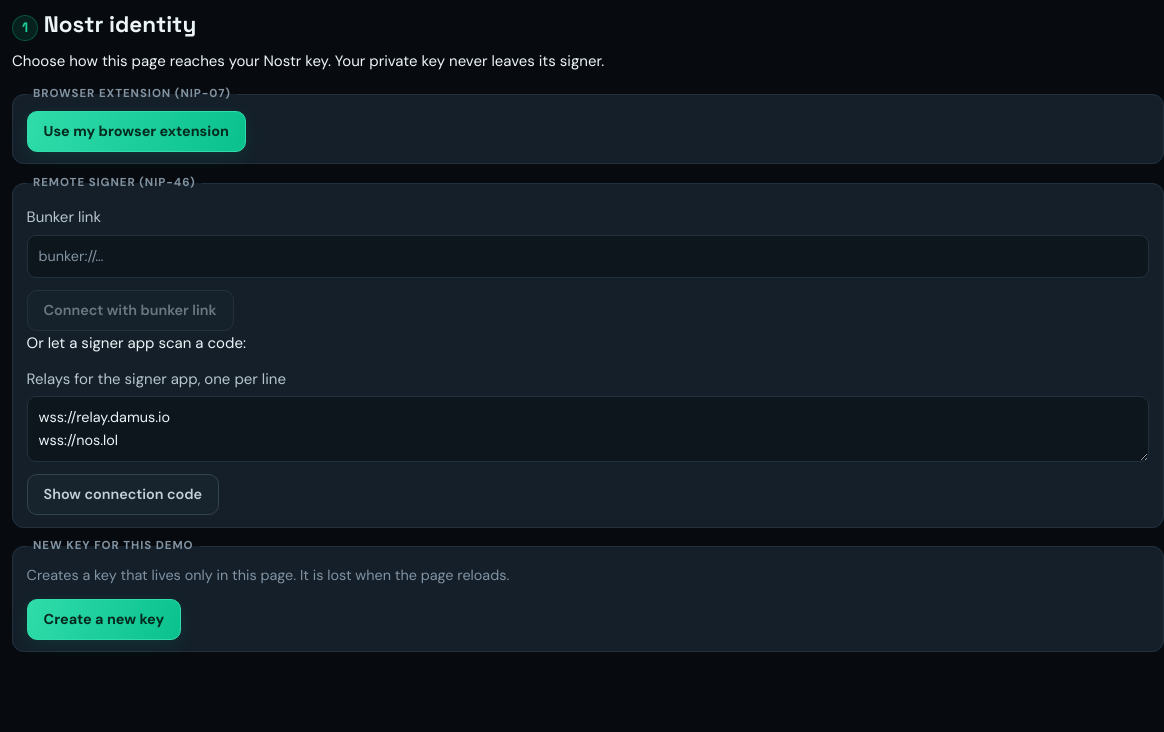
Test: NostrSignerPanel › shows an extension's refusal
Click the button "Use my browser extension".
click(136, 132)  # box [27, 111, 246, 152]
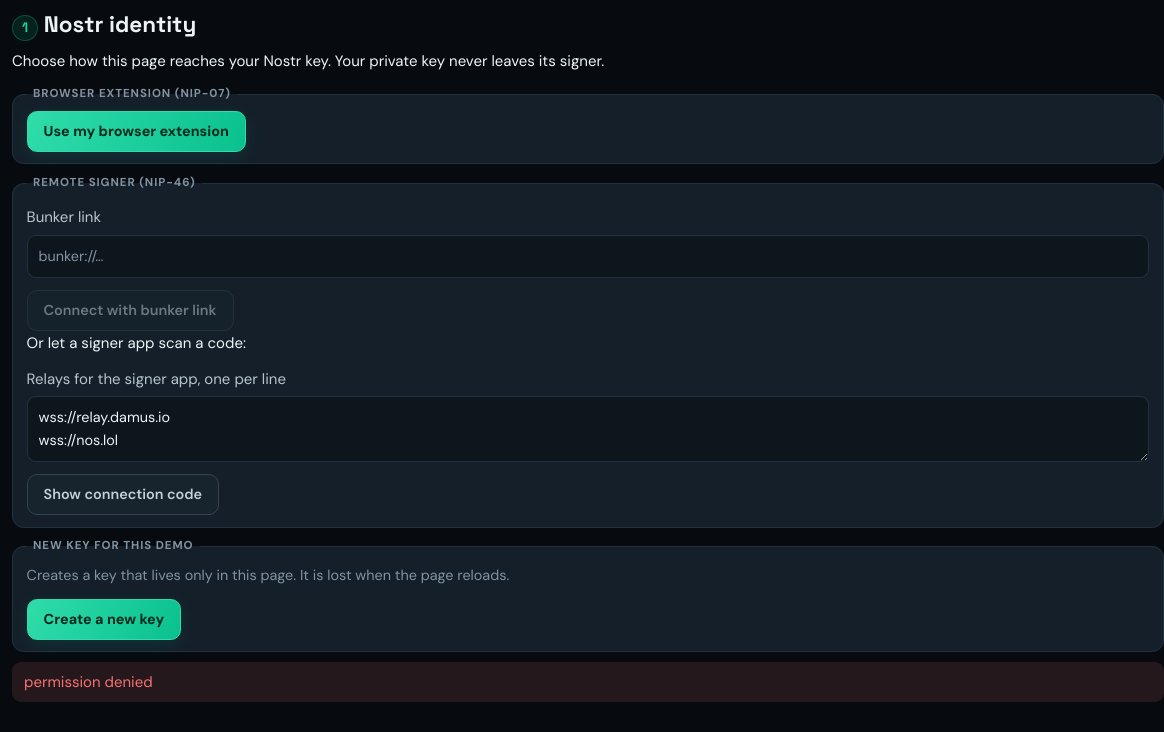
Now the message reads "permission denied", box [24, 672, 153, 692]
